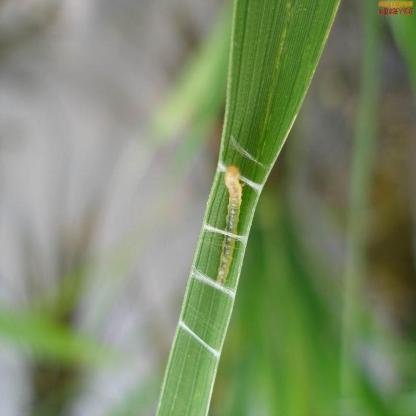leaf-folder: (212, 154, 247, 300)
